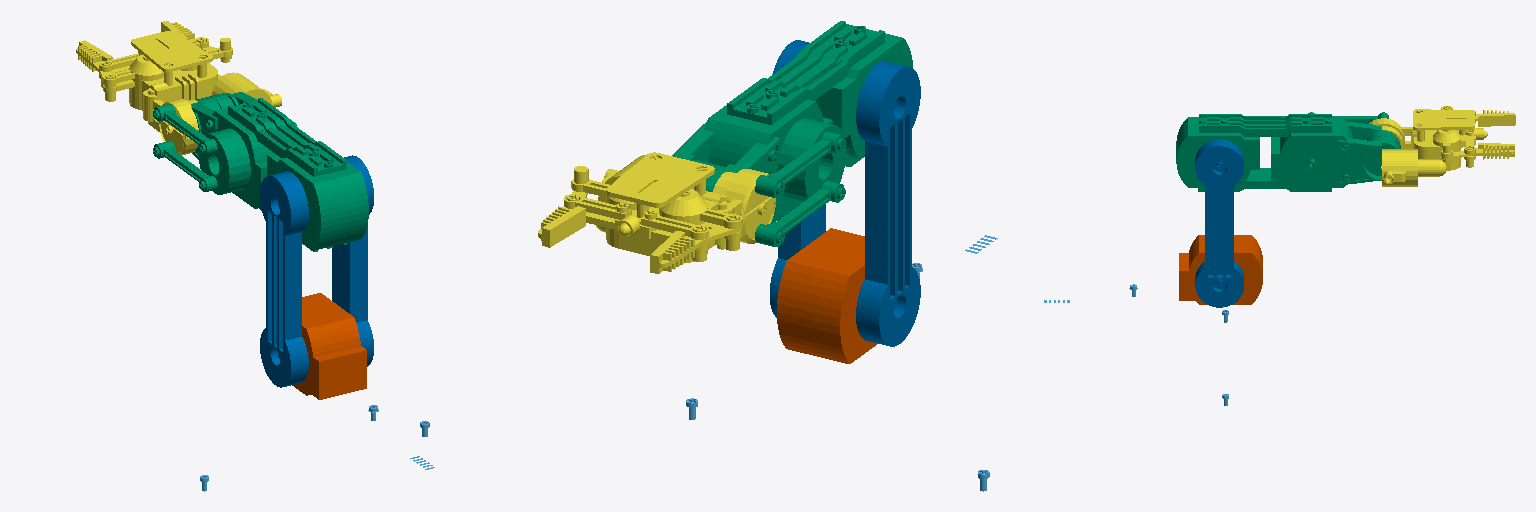
--- Facts derived from the render (not from the file) ---
The picture shows the robot from 3 angles, left to right: view 1: azimuth 30°, elevation 25°; view 2: azimuth 150°, elevation 25°; view 3: azimuth 270°, elevation 25°; orthographic projection.
Model owi535 with 6 links and 5 joints (4 revolute, 1 fixed), rooted at World, posed every joint at zero.
Links seen in each view (by area): view 1: Elbow, Base, Wrist, Rotation; view 2: Elbow, Wrist, Base, Rotation, Model; view 3: Elbow, Wrist, Base, Rotation.
Link boxes in pixels (x1,y1,x2,y2): Elbow: (153,92,368,251); Base: (260,155,373,387); Wrist: (76,21,281,155); Rotation: (292,293,366,399); Elbow: (672,21,912,246); Wrist: (538,152,775,273); Base: (770,40,920,346); Rotation: (777,228,877,363); Model: (686,235,997,491); Elbow: (1176,112,1400,191); Wrist: (1369,106,1515,186); Base: (1195,139,1243,307); Rotation: (1179,235,1262,304).
Bounding box of the posed robot: 0.1429 × 0.3275 × 0.1868 m (x, y, z).
Meshes: 74 distinct files referenced, 72 mesh visuals loaded (72 OBJ); not drawn: 2 (reference not matched to a file when rendering).

robot.urdf — owi535:
<?xml version="1.0" ?>
<robot name="owi535">
   <link name="World"/>
   <link name="Model">
      <visual>
         <origin rpy="0.0 -0.0 0.0" xyz="0.0 0.0 0.0"/>
         <geometry>
            <mesh filename="package://owi_35/urdf/Untitled-mesh.0.obj" scale="0.001 0.001 0.001"/>
         </geometry>
      </visual>
      <collision>
         <origin rpy="0.0 -0.0 0.0" xyz="0.0 0.0 0.0"/>
         <geometry>
            <mesh filename="package://owi_35/urdf/Untitled-mesh.0.obj" scale="0.001 0.001 0.001"/>
         </geometry>
      </collision>
      <visual>
         <origin rpy="0.0 -0.0 0.0" xyz="0.0 0.0 0.0"/>
         <geometry>
            <mesh filename="package://owi_35/urdf/Untitled_001-mesh.0.obj" scale="0.001 0.001 0.001"/>
         </geometry>
      </visual>
      <collision>
         <origin rpy="0.0 -0.0 0.0" xyz="0.0 0.0 0.0"/>
         <geometry>
            <mesh filename="package://owi_35/urdf/Untitled_001-mesh.0.obj" scale="0.001 0.001 0.001"/>
         </geometry>
      </collision>
      <visual>
         <origin rpy="0.0 -0.0 0.0" xyz="0.0 0.0 0.0"/>
         <geometry>
            <mesh filename="package://owi_35/urdf/Untitled_001-mesh.1.obj" scale="0.001 0.001 0.001"/>
         </geometry>
      </visual>
      <collision>
         <origin rpy="0.0 -0.0 0.0" xyz="0.0 0.0 0.0"/>
         <geometry>
            <mesh filename="package://owi_35/urdf/Untitled_001-mesh.1.obj" scale="0.001 0.001 0.001"/>
         </geometry>
      </collision>
      <visual>
         <origin rpy="0.0 -0.0 0.0" xyz="0.0 0.0 0.0"/>
         <geometry>
            <mesh filename="package://owi_35/urdf/Untitled_001-mesh.2.obj" scale="0.001 0.001 0.001"/>
         </geometry>
      </visual>
      <collision>
         <origin rpy="0.0 -0.0 0.0" xyz="0.0 0.0 0.0"/>
         <geometry>
            <mesh filename="package://owi_35/urdf/Untitled_001-mesh.2.obj" scale="0.001 0.001 0.001"/>
         </geometry>
      </collision>
      <visual>
         <origin rpy="0.0 -0.0 0.0" xyz="0.0 0.0 0.0"/>
         <geometry>
            <mesh filename="package://owi_35/urdf/Untitled_001-mesh.3.obj" scale="0.001 0.001 0.001"/>
         </geometry>
      </visual>
      <collision>
         <origin rpy="0.0 -0.0 0.0" xyz="0.0 0.0 0.0"/>
         <geometry>
            <mesh filename="package://owi_35/urdf/Untitled_001-mesh.3.obj" scale="0.001 0.001 0.001"/>
         </geometry>
      </collision>
      <visual>
         <origin rpy="0.0 -0.0 0.0" xyz="0.0 0.0 0.0"/>
         <geometry>
            <mesh filename="package://owi_35/urdf/Untitled_002-mesh.0.obj" scale="0.001 0.001 0.001"/>
         </geometry>
      </visual>
      <collision>
         <origin rpy="0.0 -0.0 0.0" xyz="0.0 0.0 0.0"/>
         <geometry>
            <mesh filename="package://owi_35/urdf/Untitled_002-mesh.0.obj" scale="0.001 0.001 0.001"/>
         </geometry>
      </collision>
      <visual>
         <origin rpy="0.0 -0.0 0.0" xyz="0.0 0.0 0.0"/>
         <geometry>
            <mesh filename="package://owi_35/urdf/Untitled_003-mesh.0.obj" scale="0.001 0.001 0.001"/>
         </geometry>
      </visual>
      <collision>
         <origin rpy="0.0 -0.0 0.0" xyz="0.0 0.0 0.0"/>
         <geometry>
            <mesh filename="package://owi_35/urdf/Untitled_003-mesh.0.obj" scale="0.001 0.001 0.001"/>
         </geometry>
      </collision>
      <inertial>
            <mass value="5" />
            <origin xyz="0 0 0" rpy="0 0 0" />
            <inertia ixx="1.004" ixy="1.001" ixz="1" iyy="1.006" iyz="1" izz="1.007" />
      </inertial>
   </link>
   <link name="Elbow">
      <visual>
         <origin rpy="-3.97231980642232e-09 -0.0 0.0" xyz="46.62923049926758 -157.33990478515625 23.237260818481445"/>
         <geometry>
            <mesh filename="package://owi_35/urdf/Untitled_004-mesh.0.obj" scale="0.001 0.001 0.001"/>
         </geometry>
      </visual>
      <collision>
         <origin rpy="-3.97231980642232e-09 -0.0 0.0" xyz="46.62923049926758 -157.33990478515625 23.237260818481445"/>
         <geometry>
            <mesh filename="package://owi_35/urdf/Untitled_004-mesh.0.obj" scale="0.001 0.001 0.001"/>
         </geometry>
      </collision>
      <visual>
         <origin rpy="-3.97231980642232e-09 -0.0 0.0" xyz="46.62923049926758 -157.33990478515625 23.237260818481445"/>
         <geometry>
            <mesh filename="package://owi_35/urdf/Untitled_005-mesh.0.obj" scale="0.001 0.001 0.001"/>
         </geometry>
      </visual>
      <collision>
         <origin rpy="-3.97231980642232e-09 -0.0 0.0" xyz="46.62923049926758 -157.33990478515625 23.237260818481445"/>
         <geometry>
            <mesh filename="package://owi_35/urdf/Untitled_005-mesh.0.obj" scale="0.001 0.001 0.001"/>
         </geometry>
      </collision>
      <visual>
         <origin rpy="-3.97231980642232e-09 -0.0 0.0" xyz="46.62923049926758 -157.33990478515625 23.237260818481445"/>
         <geometry>
            <mesh filename="package://owi_35/urdf/Untitled_006-mesh.0.obj" scale="0.001 0.001 0.001"/>
         </geometry>
      </visual>
      <collision>
         <origin rpy="-3.97231980642232e-09 -0.0 0.0" xyz="46.62923049926758 -157.33990478515625 23.237260818481445"/>
         <geometry>
            <mesh filename="package://owi_35/urdf/Untitled_006-mesh.0.obj" scale="0.001 0.001 0.001"/>
         </geometry>
      </collision>
      <visual>
         <origin rpy="-3.97231980642232e-09 -0.0 0.0" xyz="46.62923049926758 -157.33990478515625 23.237260818481445"/>
         <geometry>
            <mesh filename="package://owi_35/urdf/Untitled_007-mesh.0.obj" scale="0.001 0.001 0.001"/>
         </geometry>
      </visual>
      <collision>
         <origin rpy="-3.97231980642232e-09 -0.0 0.0" xyz="46.62923049926758 -157.33990478515625 23.237260818481445"/>
         <geometry>
            <mesh filename="package://owi_35/urdf/Untitled_007-mesh.0.obj" scale="0.001 0.001 0.001"/>
         </geometry>
      </collision>
      <visual>
         <origin rpy="-3.97231980642232e-09 -0.0 0.0" xyz="46.62923049926758 -157.33990478515625 23.237260818481445"/>
         <geometry>
            <mesh filename="package://owi_35/urdf/Untitled_008-mesh.0.obj" scale="0.001 0.001 0.001"/>
         </geometry>
      </visual>
      <collision>
         <origin rpy="-3.97231980642232e-09 -0.0 0.0" xyz="46.62923049926758 -157.33990478515625 23.237260818481445"/>
         <geometry>
            <mesh filename="package://owi_35/urdf/Untitled_008-mesh.0.obj" scale="0.001 0.001 0.001"/>
         </geometry>
      </collision>
      <visual>
         <origin rpy="-3.97231980642232e-09 -0.0 0.0" xyz="46.62923049926758 -157.33990478515625 23.237260818481445"/>
         <geometry>
            <mesh filename="package://owi_35/urdf/Untitled_009-mesh.0.obj" scale="0.001 0.001 0.001"/>
         </geometry>
      </visual>
      <collision>
         <origin rpy="-3.97231980642232e-09 -0.0 0.0" xyz="46.62923049926758 -157.33990478515625 23.237260818481445"/>
         <geometry>
            <mesh filename="package://owi_35/urdf/Untitled_009-mesh.0.obj" scale="0.001 0.001 0.001"/>
         </geometry>
      </collision>
      <visual>
         <origin rpy="-3.97231980642232e-09 -0.0 0.0" xyz="46.62923049926758 -157.33990478515625 23.237260818481445"/>
         <geometry>
            <mesh filename="package://owi_35/urdf/Untitled_010-mesh.0.obj" scale="0.001 0.001 0.001"/>
         </geometry>
      </visual>
      <collision>
         <origin rpy="-3.97231980642232e-09 -0.0 0.0" xyz="46.62923049926758 -157.33990478515625 23.237260818481445"/>
         <geometry>
            <mesh filename="package://owi_35/urdf/Untitled_010-mesh.0.obj" scale="0.001 0.001 0.001"/>
         </geometry>
      </collision>
      <visual>
         <origin rpy="-3.97231980642232e-09 -0.0 0.0" xyz="46.62923049926758 -157.33990478515625 23.237260818481445"/>
         <geometry>
            <mesh filename="package://owi_35/urdf/Untitled_011-mesh.0.obj" scale="0.001 0.001 0.001"/>
         </geometry>
      </visual>
      <collision>
         <origin rpy="-3.97231980642232e-09 -0.0 0.0" xyz="46.62923049926758 -157.33990478515625 23.237260818481445"/>
         <geometry>
            <mesh filename="package://owi_35/urdf/Untitled_011-mesh.0.obj" scale="0.001 0.001 0.001"/>
         </geometry>
      </collision>
      <visual>
         <origin rpy="-7.94463961284464e-09 -0.0 0.0" xyz="46.62922668457031 -157.33990478515625 23.237262725830078"/>
         <geometry>
            <mesh filename="package://owi_35/urdf/Untitled_040-mesh.0.obj" scale="0.001 0.001 0.001"/>
         </geometry>
      </visual>
      <collision>
         <origin rpy="-7.94463961284464e-09 -0.0 0.0" xyz="46.62922668457031 -157.33990478515625 23.237262725830078"/>
         <geometry>
            <mesh filename="package://owi_35/urdf/Untitled_040-mesh.0.obj" scale="0.001 0.001 0.001"/>
         </geometry>
      </collision>
      <visual>
         <origin rpy="-7.94463961284464e-09 -0.0 0.0" xyz="46.62922668457031 -157.33990478515625 23.237262725830078"/>
         <geometry>
            <mesh filename="package://owi_35/urdf/Untitled_041-mesh.0.obj" scale="0.001 0.001 0.001"/>
         </geometry>
      </visual>
      <collision>
         <origin rpy="-7.94463961284464e-09 -0.0 0.0" xyz="46.62922668457031 -157.33990478515625 23.237262725830078"/>
         <geometry>
            <mesh filename="package://owi_35/urdf/Untitled_041-mesh.0.obj" scale="0.001 0.001 0.001"/>
         </geometry>
      </collision>
      <visual>
         <origin rpy="-7.94463961284464e-09 -0.0 0.0" xyz="46.62922668457031 -157.33990478515625 23.237262725830078"/>
         <geometry>
            <mesh filename="package://owi_35/urdf/Untitled_042-mesh.0.obj" scale="0.001 0.001 0.001"/>
         </geometry>
      </visual>
      <collision>
         <origin rpy="-7.94463961284464e-09 -0.0 0.0" xyz="46.62922668457031 -157.33990478515625 23.237262725830078"/>
         <geometry>
            <mesh filename="package://owi_35/urdf/Untitled_042-mesh.0.obj" scale="0.001 0.001 0.001"/>
         </geometry>
      </collision>
      <visual>
         <origin rpy="-7.94463961284464e-09 -0.0 0.0" xyz="46.62922668457031 -157.33990478515625 23.237262725830078"/>
         <geometry>
            <mesh filename="package://owi_35/urdf/Untitled_043-mesh.0.obj" scale="0.001 0.001 0.001"/>
         </geometry>
      </visual>
      <collision>
         <origin rpy="-7.94463961284464e-09 -0.0 0.0" xyz="46.62922668457031 -157.33990478515625 23.237262725830078"/>
         <geometry>
            <mesh filename="package://owi_35/urdf/Untitled_043-mesh.0.obj" scale="0.001 0.001 0.001"/>
         </geometry>
      </collision>
      <visual>
         <origin rpy="-7.94463961284464e-09 -0.0 0.0" xyz="46.62922668457031 -157.33990478515625 23.237262725830078"/>
         <geometry>
            <mesh filename="package://owi_35/urdf/Untitled_044-mesh.0.obj" scale="0.001 0.001 0.001"/>
         </geometry>
      </visual>
      <collision>
         <origin rpy="-7.94463961284464e-09 -0.0 0.0" xyz="46.62922668457031 -157.33990478515625 23.237262725830078"/>
         <geometry>
            <mesh filename="package://owi_35/urdf/Untitled_044-mesh.0.obj" scale="0.001 0.001 0.001"/>
         </geometry>
      </collision>
      <visual>
         <origin rpy="-7.94463961284464e-09 -0.0 0.0" xyz="46.62922668457031 -157.33990478515625 23.237262725830078"/>
         <geometry>
            <mesh filename="package://owi_35/urdf/Untitled_045-mesh.0.obj" scale="0.001 0.001 0.001"/>
         </geometry>
      </visual>
      <collision>
         <origin rpy="-7.94463961284464e-09 -0.0 0.0" xyz="46.62922668457031 -157.33990478515625 23.237262725830078"/>
         <geometry>
            <mesh filename="package://owi_35/urdf/Untitled_045-mesh.0.obj" scale="0.001 0.001 0.001"/>
         </geometry>
      </collision>
      <visual>
         <origin rpy="-7.94463961284464e-09 -0.0 0.0" xyz="46.62922668457031 -157.33990478515625 23.237262725830078"/>
         <geometry>
            <mesh filename="package://owi_35/urdf/Untitled_046-mesh.0.obj" scale="0.001 0.001 0.001"/>
         </geometry>
      </visual>
      <collision>
         <origin rpy="-7.94463961284464e-09 -0.0 0.0" xyz="46.62922668457031 -157.33990478515625 23.237262725830078"/>
         <geometry>
            <mesh filename="package://owi_35/urdf/Untitled_046-mesh.0.obj" scale="0.001 0.001 0.001"/>
         </geometry>
      </collision>
      <visual>
         <origin rpy="-7.94463961284464e-09 -0.0 0.0" xyz="46.62922668457031 -157.33990478515625 23.237262725830078"/>
         <geometry>
            <mesh filename="package://owi_35/urdf/Untitled_047-mesh.0.obj" scale="0.001 0.001 0.001"/>
         </geometry>
      </visual>
      <collision>
         <origin rpy="-7.94463961284464e-09 -0.0 0.0" xyz="46.62922668457031 -157.33990478515625 23.237262725830078"/>
         <geometry>
            <mesh filename="package://owi_35/urdf/Untitled_047-mesh.0.obj" scale="0.001 0.001 0.001"/>
         </geometry>
      </collision>
      <visual>
         <origin rpy="-7.94463961284464e-09 -0.0 0.0" xyz="46.62922668457031 -157.33990478515625 23.237262725830078"/>
         <geometry>
            <mesh filename="package://owi_35/urdf/Untitled_048-mesh.0.obj" scale="0.001 0.001 0.001"/>
         </geometry>
      </visual>
      <collision>
         <origin rpy="-7.94463961284464e-09 -0.0 0.0" xyz="46.62922668457031 -157.33990478515625 23.237262725830078"/>
         <geometry>
            <mesh filename="package://owi_35/urdf/Untitled_048-mesh.0.obj" scale="0.001 0.001 0.001"/>
         </geometry>
      </collision>
      <visual>
         <origin rpy="-7.94463961284464e-09 -0.0 0.0" xyz="46.62922668457031 -157.33990478515625 23.237262725830078"/>
         <geometry>
            <mesh filename="package://owi_35/urdf/Untitled_049-mesh.0.obj" scale="0.001 0.001 0.001"/>
         </geometry>
      </visual>
      <collision>
         <origin rpy="-7.94463961284464e-09 -0.0 0.0" xyz="46.62922668457031 -157.33990478515625 23.237262725830078"/>
         <geometry>
            <mesh filename="package://owi_35/urdf/Untitled_049-mesh.0.obj" scale="0.001 0.001 0.001"/>
         </geometry>
      </collision>
      <visual>
         <origin rpy="-7.94463961284464e-09 -0.0 0.0" xyz="46.62922668457031 -157.33990478515625 23.237262725830078"/>
         <geometry>
            <mesh filename="package://owi_35/urdf/Untitled_050-mesh.0.obj" scale="0.001 0.001 0.001"/>
         </geometry>
      </visual>
      <collision>
         <origin rpy="-7.94463961284464e-09 -0.0 0.0" xyz="46.62922668457031 -157.33990478515625 23.237262725830078"/>
         <geometry>
            <mesh filename="package://owi_35/urdf/Untitled_050-mesh.0.obj" scale="0.001 0.001 0.001"/>
         </geometry>
      </collision>
      <visual>
         <origin rpy="-7.94463961284464e-09 -0.0 0.0" xyz="46.62922668457031 -157.33990478515625 23.237262725830078"/>
         <geometry>
            <mesh filename="package://owi_35/urdf/Untitled_051-mesh.0.obj" scale="0.001 0.001 0.001"/>
         </geometry>
      </visual>
      <collision>
         <origin rpy="-7.94463961284464e-09 -0.0 0.0" xyz="46.62922668457031 -157.33990478515625 23.237262725830078"/>
         <geometry>
            <mesh filename="package://owi_35/urdf/Untitled_051-mesh.0.obj" scale="0.001 0.001 0.001"/>
         </geometry>
      </collision>
      <visual>
         <origin rpy="-7.94463961284464e-09 -0.0 0.0" xyz="46.62922668457031 -157.33990478515625 23.237262725830078"/>
         <geometry>
            <mesh filename="package://owi_35/urdf/Untitled_052-mesh.0.obj" scale="0.001 0.001 0.001"/>
         </geometry>
      </visual>
      <collision>
         <origin rpy="-7.94463961284464e-09 -0.0 0.0" xyz="46.62922668457031 -157.33990478515625 23.237262725830078"/>
         <geometry>
            <mesh filename="package://owi_35/urdf/Untitled_052-mesh.0.obj" scale="0.001 0.001 0.001"/>
         </geometry>
      </collision>
      <visual>
         <origin rpy="-7.94463961284464e-09 -0.0 0.0" xyz="46.62922668457031 -157.33990478515625 23.237262725830078"/>
         <geometry>
            <mesh filename="package://owi_35/urdf/Untitled_053-mesh.0.obj" scale="0.001 0.001 0.001"/>
         </geometry>
      </visual>
      <collision>
         <origin rpy="-7.94463961284464e-09 -0.0 0.0" xyz="46.62922668457031 -157.33990478515625 23.237262725830078"/>
         <geometry>
            <mesh filename="package://owi_35/urdf/Untitled_053-mesh.0.obj" scale="0.001 0.001 0.001"/>
         </geometry>
      </collision>
      <visual>
         <origin rpy="-7.94463961284464e-09 -0.0 0.0" xyz="46.62922668457031 -157.33990478515625 23.237262725830078"/>
         <geometry>
            <mesh filename="package://owi_35/urdf/Untitled_054-mesh.0.obj" scale="0.001 0.001 0.001"/>
         </geometry>
      </visual>
      <collision>
         <origin rpy="-7.94463961284464e-09 -0.0 0.0" xyz="46.62922668457031 -157.33990478515625 23.237262725830078"/>
         <geometry>
            <mesh filename="package://owi_35/urdf/Untitled_054-mesh.0.obj" scale="0.001 0.001 0.001"/>
         </geometry>
      </collision>
      <visual>
         <origin rpy="-7.94463961284464e-09 -0.0 0.0" xyz="46.62922668457031 -157.33990478515625 23.237262725830078"/>
         <geometry>
            <mesh filename="package://owi_35/urdf/Untitled_055-mesh.0.obj" scale="0.001 0.001 0.001"/>
         </geometry>
      </visual>
      <collision>
         <origin rpy="-7.94463961284464e-09 -0.0 0.0" xyz="46.62922668457031 -157.33990478515625 23.237262725830078"/>
         <geometry>
            <mesh filename="package://owi_35/urdf/Untitled_055-mesh.0.obj" scale="0.001 0.001 0.001"/>
         </geometry>
      </collision>
      <visual>
         <origin rpy="-7.94463961284464e-09 -0.0 0.0" xyz="46.62922668457031 -157.33990478515625 23.237262725830078"/>
         <geometry>
            <mesh filename="package://owi_35/urdf/Untitled_056-mesh.0.obj" scale="0.001 0.001 0.001"/>
         </geometry>
      </visual>
      <collision>
         <origin rpy="-7.94463961284464e-09 -0.0 0.0" xyz="46.62922668457031 -157.33990478515625 23.237262725830078"/>
         <geometry>
            <mesh filename="package://owi_35/urdf/Untitled_056-mesh.0.obj" scale="0.001 0.001 0.001"/>
         </geometry>
      </collision>
      <visual>
         <origin rpy="-7.94463961284464e-09 -0.0 0.0" xyz="46.62922668457031 -157.33990478515625 23.237262725830078"/>
         <geometry>
            <mesh filename="package://owi_35/urdf/Untitled_057-mesh.0.obj" scale="0.001 0.001 0.001"/>
         </geometry>
      </visual>
      <collision>
         <origin rpy="-7.94463961284464e-09 -0.0 0.0" xyz="46.62922668457031 -157.33990478515625 23.237262725830078"/>
         <geometry>
            <mesh filename="package://owi_35/urdf/Untitled_057-mesh.0.obj" scale="0.001 0.001 0.001"/>
         </geometry>
      </collision>
      <inertial>
            <mass value="5" />
            <origin xyz="0 0 0" rpy="0 0 0" />
            <inertia ixx="0" ixy="0" ixz="0" iyy="0" iyz="0" izz="0" />
      </inertial>
   </link>
   <link name="Wrist">
      <visual>
         <origin rpy="4.371139894487894e-08 -0.0 0.0" xyz="45.20729064941406 -156.94960021972656 136.8153076171875"/>
         <geometry>
            <mesh filename="package://owi_35/urdf/Untitled_012-mesh.0.obj" scale="0.001 0.001 0.001"/>
         </geometry>
      </visual>
      <collision>
         <origin rpy="4.371139894487894e-08 -0.0 0.0" xyz="45.20729064941406 -156.94960021972656 136.8153076171875"/>
         <geometry>
            <mesh filename="package://owi_35/urdf/Untitled_012-mesh.0.obj" scale="0.001 0.001 0.001"/>
         </geometry>
      </collision>
      <visual>
         <origin rpy="4.371139894487894e-08 -0.0 0.0" xyz="45.20729064941406 -156.94960021972656 136.8153076171875"/>
         <geometry>
            <mesh filename="package://owi_35/urdf/Untitled_013-mesh.0.obj" scale="0.001 0.001 0.001"/>
         </geometry>
      </visual>
      <collision>
         <origin rpy="4.371139894487894e-08 -0.0 0.0" xyz="45.20729064941406 -156.94960021972656 136.8153076171875"/>
         <geometry>
            <mesh filename="package://owi_35/urdf/Untitled_013-mesh.0.obj" scale="0.001 0.001 0.001"/>
         </geometry>
      </collision>
      <visual>
         <origin rpy="4.371139894487894e-08 -0.0 0.0" xyz="45.20729064941406 -156.94960021972656 136.8153076171875"/>
         <geometry>
            <mesh filename="package://owi_35/urdf/Untitled_014-mesh.0.obj" scale="0.001 0.001 0.001"/>
         </geometry>
      </visual>
      <collision>
         <origin rpy="4.371139894487894e-08 -0.0 0.0" xyz="45.20729064941406 -156.94960021972656 136.8153076171875"/>
         <geometry>
            <mesh filename="package://owi_35/urdf/Untitled_014-mesh.0.obj" scale="0.001 0.001 0.001"/>
         </geometry>
      </collision>
      <visual>
         <origin rpy="4.371139894487894e-08 -0.0 0.0" xyz="45.20729064941406 -156.94960021972656 136.8153076171875"/>
         <geometry>
            <mesh filename="package://owi_35/urdf/Untitled_015-mesh.0.obj" scale="0.001 0.001 0.001"/>
         </geometry>
      </visual>
      <collision>
         <origin rpy="4.371139894487894e-08 -0.0 0.0" xyz="45.20729064941406 -156.94960021972656 136.8153076171875"/>
         <geometry>
            <mesh filename="package://owi_35/urdf/Untitled_015-mesh.0.obj" scale="0.001 0.001 0.001"/>
         </geometry>
      </collision>
      <visual>
         <origin rpy="4.371139894487894e-08 -0.0 0.0" xyz="45.20729064941406 -156.94960021972656 136.8153076171875"/>
         <geometry>
            <mesh filename="package://owi_35/urdf/Untitled_016-mesh.0.obj" scale="0.001 0.001 0.001"/>
         </geometry>
      </visual>
      <collision>
         <origin rpy="4.371139894487894e-08 -0.0 0.0" xyz="45.20729064941406 -156.94960021972656 136.8153076171875"/>
         <geometry>
            <mesh filename="package://owi_35/urdf/Untitled_016-mesh.0.obj" scale="0.001 0.001 0.001"/>
         </geometry>
      </collision>
      <visual>
         <origin rpy="4.371139894487894e-08 -0.0 0.0" xyz="45.20729064941406 -156.94960021972656 136.8153076171875"/>
         <geometry>
            <mesh filename="package://owi_35/urdf/Untitled_017-mesh.0.obj" scale="0.001 0.001 0.001"/>
         </geometry>
      </visual>
      <collision>
         <origin rpy="4.371139894487894e-08 -0.0 0.0" xyz="45.20729064941406 -156.94960021972656 136.8153076171875"/>
         <geometry>
            <mesh filename="package://owi_35/urdf/Untitled_017-mesh.0.obj" scale="0.001 0.001 0.001"/>
         </geometry>
      </collision>
      <visual>
         <origin rpy="4.371139894487894e-08 -0.0 0.0" xyz="45.20729064941406 -156.94960021972656 136.8153076171875"/>
         <geometry>
            <mesh filename="package://owi_35/urdf/Untitled_018-mesh.0.obj" scale="0.001 0.001 0.001"/>
         </geometry>
      </visual>
      <collision>
         <origin rpy="4.371139894487894e-08 -0.0 0.0" xyz="45.20729064941406 -156.94960021972656 136.8153076171875"/>
         <geometry>
            <mesh filename="package://owi_35/urdf/Untitled_018-mesh.0.obj" scale="0.001 0.001 0.001"/>
         </geometry>
      </collision>
      <visual>
         <origin rpy="4.371139894487894e-08 -0.0 0.0" xyz="45.20729064941406 -156.94960021972656 136.8153076171875"/>
         <geometry>
            <mesh filename="package://owi_35/urdf/Untitled_019-mesh.0.obj" scale="0.001 0.001 0.001"/>
         </geometry>
      </visual>
      <collision>
         <origin rpy="4.371139894487894e-08 -0.0 0.0" xyz="45.20729064941406 -156.94960021972656 136.8153076171875"/>
         <geometry>
            <mesh filename="package://owi_35/urdf/Untitled_019-mesh.0.obj" scale="0.001 0.001 0.001"/>
         </geometry>
      </collision>
      <visual>
         <origin rpy="4.371139894487894e-08 -0.0 0.0" xyz="45.20729064941406 -156.94960021972656 136.8153076171875"/>
         <geometry>
            <mesh filename="package://owi_35/urdf/Untitled_019-mesh.1.obj" scale="0.001 0.001 0.001"/>
         </geometry>
      </visual>
      <collision>
         <origin rpy="4.371139894487894e-08 -0.0 0.0" xyz="45.20729064941406 -156.94960021972656 136.8153076171875"/>
         <geometry>
            <mesh filename="package://owi_35/urdf/Untitled_019-mesh.1.obj" scale="0.001 0.001 0.001"/>
         </geometry>
      </collision>
      <visual>
         <origin rpy="4.371139894487894e-08 -0.0 0.0" xyz="45.20729064941406 -156.94960021972656 136.8153076171875"/>
         <geometry>
            <mesh filename="package://owi_35/urdf/Untitled_019-mesh.2.obj" scale="0.001 0.001 0.001"/>
         </geometry>
      </visual>
      <collision>
         <origin rpy="4.371139894487894e-08 -0.0 0.0" xyz="45.20729064941406 -156.94960021972656 136.8153076171875"/>
         <geometry>
            <mesh filename="package://owi_35/urdf/Untitled_019-mesh.2.obj" scale="0.001 0.001 0.001"/>
         </geometry>
      </collision>
      <visual>
         <origin rpy="4.371139894487894e-08 -0.0 0.0" xyz="45.20729064941406 -156.94960021972656 136.8153076171875"/>
         <geometry>
            <mesh filename="package://owi_35/urdf/Untitled_020-mesh.0.obj" scale="0.001 0.001 0.001"/>
         </geometry>
      </visual>
      <collision>
         <origin rpy="4.371139894487894e-08 -0.0 0.0" xyz="45.20729064941406 -156.94960021972656 136.8153076171875"/>
         <geometry>
            <mesh filename="package://owi_35/urdf/Untitled_020-mesh.0.obj" scale="0.001 0.001 0.001"/>
         </geometry>
      </collision>
      <visual>
         <origin rpy="4.371139894487894e-08 -0.0 0.0" xyz="45.20729064941406 -156.94960021972656 136.8153076171875"/>
         <geometry>
            <mesh filename="package://owi_35/urdf/Untitled_021-mesh.0.obj" scale="0.001 0.001 0.001"/>
         </geometry>
      </visual>
      <collision>
         <origin rpy="4.371139894487894e-08 -0.0 0.0" xyz="45.20729064941406 -156.94960021972656 136.8153076171875"/>
         <geometry>
            <mesh filename="package://owi_35/urdf/Untitled_021-mesh.0.obj" scale="0.001 0.001 0.001"/>
         </geometry>
      </collision>
      <visual>
         <origin rpy="4.371139894487894e-08 -0.0 0.0" xyz="45.20729064941406 -156.94960021972656 136.8153076171875"/>
         <geometry>
            <mesh filename="package://owi_35/urdf/Untitled_022-mesh.0.obj" scale="0.001 0.001 0.001"/>
         </geometry>
      </visual>
      <collision>
         <origin rpy="4.371139894487894e-08 -0.0 0.0" xyz="45.20729064941406 -156.94960021972656 136.8153076171875"/>
         <geometry>
            <mesh filename="package://owi_35/urdf/Untitled_022-mesh.0.obj" scale="0.001 0.001 0.001"/>
         </geometry>
      </collision>
      <visual>
         <origin rpy="4.371139894487894e-08 -0.0 0.0" xyz="45.20729064941406 -156.94960021972656 136.8153076171875"/>
         <geometry>
            <mesh filename="package://owi_35/urdf/Untitled_022-mesh.1.obj" scale="0.001 0.001 0.001"/>
         </geometry>
      </visual>
      <collision>
         <origin rpy="4.371139894487894e-08 -0.0 0.0" xyz="45.20729064941406 -156.94960021972656 136.8153076171875"/>
         <geometry>
            <mesh filename="package://owi_35/urdf/Untitled_022-mesh.1.obj" scale="0.001 0.001 0.001"/>
         </geometry>
      </collision>
      <visual>
         <origin rpy="4.371139894487894e-08 -0.0 0.0" xyz="45.20729064941406 -156.94960021972656 136.8153076171875"/>
         <geometry>
            <mesh filename="package://owi_35/urdf/Untitled_022-mesh.2.obj" scale="0.001 0.001 0.001"/>
         </geometry>
      </visual>
      <collision>
         <origin rpy="4.371139894487894e-08 -0.0 0.0" xyz="45.20729064941406 -156.94960021972656 136.8153076171875"/>
         <geometry>
            <mesh filename="package://owi_35/urdf/Untitled_022-mesh.2.obj" scale="0.001 0.001 0.001"/>
         </geometry>
      </collision>
      <visual>
         <origin rpy="4.371139894487894e-08 -0.0 0.0" xyz="45.20729064941406 -156.94960021972656 136.8153076171875"/>
         <geometry>
            <mesh filename="package://owi_35/urdf/Untitled_023-mesh.0.obj" scale="0.001 0.001 0.001"/>
         </geometry>
      </visual>
      <collision>
         <origin rpy="4.371139894487894e-08 -0.0 0.0" xyz="45.20729064941406 -156.94960021972656 136.8153076171875"/>
         <geometry>
            <mesh filename="package://owi_35/urdf/Untitled_023-mesh.0.obj" scale="0.001 0.001 0.001"/>
         </geometry>
      </collision>
      <visual>
         <origin rpy="4.371139894487894e-08 -0.0 0.0" xyz="45.20729064941406 -156.94960021972656 136.8153076171875"/>
         <geometry>
            <mesh filename="package://owi_35/urdf/Untitled_024-mesh.0.obj" scale="0.001 0.001 0.001"/>
         </geometry>
      </visual>
      <collision>
         <origin rpy="4.371139894487894e-08 -0.0 0.0" xyz="45.20729064941406 -156.94960021972656 136.8153076171875"/>
         <geometry>
            <mesh filename="package://owi_35/urdf/Untitled_024-mesh.0.obj" scale="0.001 0.001 0.001"/>
         </geometry>
      </collision>
      <visual>
         <origin rpy="4.371139894487894e-08 -0.0 0.0" xyz="45.20729064941406 -156.94960021972656 136.8153076171875"/>
         <geometry>
            <mesh filename="package://owi_35/urdf/Untitled_025-mesh.0.obj" scale="0.001 0.001 0.001"/>
         </geometry>
      </visual>
      <collision>
         <origin rpy="4.371139894487894e-08 -0.0 0.0" xyz="45.20729064941406 -156.94960021972656 136.8153076171875"/>
         <geometry>
            <mesh filename="package://owi_35/urdf/Untitled_025-mesh.0.obj" scale="0.001 0.001 0.001"/>
         </geometry>
      </collision>
      <visual>
         <origin rpy="4.371139894487894e-08 -0.0 0.0" xyz="45.20729064941406 -156.94960021972656 136.8153076171875"/>
         <geometry>
            <mesh filename="package://owi_35/urdf/Untitled_026-mesh.0.obj" scale="0.001 0.001 0.001"/>
         </geometry>
      </visual>
      <collision>
         <origin rpy="4.371139894487894e-08 -0.0 0.0" xyz="45.20729064941406 -156.94960021972656 136.8153076171875"/>
         <geometry>
            <mesh filename="package://owi_35/urdf/Untitled_026-mesh.0.obj" scale="0.001 0.001 0.001"/>
         </geometry>
      </collision>
      <visual>
         <origin rpy="4.371139894487894e-08 -0.0 0.0" xyz="45.20729064941406 -156.94960021972656 136.8153076171875"/>
         <geometry>
            <mesh filename="package://owi_35/urdf/Untitled_026-mesh.1.obj" scale="0.001 0.001 0.001"/>
         </geometry>
      </visual>
      <collision>
         <origin rpy="4.371139894487894e-08 -0.0 0.0" xyz="45.20729064941406 -156.94960021972656 136.8153076171875"/>
         <geometry>
            <mesh filename="package://owi_35/urdf/Untitled_026-mesh.1.obj" scale="0.001 0.001 0.001"/>
         </geometry>
      </collision>
      <visual>
         <origin rpy="4.371139894487894e-08 -0.0 0.0" xyz="45.20729064941406 -156.94960021972656 136.8153076171875"/>
         <geometry>
            <mesh filename="package://owi_35/urdf/Untitled_027-mesh.0.obj" scale="0.001 0.001 0.001"/>
         </geometry>
      </visual>
      <collision>
         <origin rpy="4.371139894487894e-08 -0.0 0.0" xyz="45.20729064941406 -156.94960021972656 136.8153076171875"/>
         <geometry>
            <mesh filename="package://owi_35/urdf/Untitled_027-mesh.0.obj" scale="0.001 0.001 0.001"/>
         </geometry>
      </collision>
      <visual>
         <origin rpy="4.371139894487894e-08 -0.0 0.0" xyz="45.20729064941406 -156.94960021972656 136.8153076171875"/>
         <geometry>
            <mesh filename="package://owi_35/urdf/Untitled_028-mesh.0.obj" scale="0.001 0.001 0.001"/>
         </geometry>
      </visual>
      <collision>
         <origin rpy="4.371139894487894e-08 -0.0 0.0" xyz="45.20729064941406 -156.94960021972656 136.8153076171875"/>
         <geometry>
            <mesh filename="package://owi_35/urdf/Untitled_028-mesh.0.obj" scale="0.001 0.001 0.001"/>
         </geometry>
      </collision>
      <visual>
         <origin rpy="4.371139894487894e-08 -0.0 0.0" xyz="45.20729064941406 -156.94960021972656 136.8153076171875"/>
         <geometry>
            <mesh filename="package://owi_35/urdf/Untitled_029-mesh.0.obj" scale="0.001 0.001 0.001"/>
         </geometry>
      </visual>
      <collision>
         <origin rpy="4.371139894487894e-08 -0.0 0.0" xyz="45.20729064941406 -156.94960021972656 136.8153076171875"/>
         <geometry>
            <mesh filename="package://owi_35/urdf/Untitled_029-mesh.0.obj" scale="0.001 0.001 0.001"/>
         </geometry>
      </collision>
      <visual>
         <origin rpy="4.371139894487894e-08 -0.0 0.0" xyz="45.20729064941406 -156.94960021972656 136.8153076171875"/>
         <geometry>
            <mesh filename="package://owi_35/urdf/Untitled_030-mesh.0.obj" scale="0.001 0.001 0.001"/>
         </geometry>
      </visual>
      <collision>
         <origin rpy="4.371139894487894e-08 -0.0 0.0" xyz="45.20729064941406 -156.94960021972656 136.8153076171875"/>
         <geometry>
            <mesh filename="package://owi_35/urdf/Untitled_030-mesh.0.obj" scale="0.001 0.001 0.001"/>
         </geometry>
      </collision>
      <visual>
         <origin rpy="4.371139894487894e-08 -0.0 0.0" xyz="45.20729064941406 -156.94960021972656 136.8153076171875"/>
         <geometry>
            <mesh filename="package://owi_35/urdf/Untitled_031-mesh.0.obj" scale="0.001 0.001 0.001"/>
         </geometry>
      </visual>
      <collision>
         <origin rpy="4.371139894487894e-08 -0.0 0.0" xyz="45.20729064941406 -156.94960021972656 136.8153076171875"/>
         <geometry>
            <mesh filename="package://owi_35/urdf/Untitled_031-mesh.0.obj" scale="0.001 0.001 0.001"/>
         </geometry>
      </collision>
      <visual>
         <origin rpy="4.371139894487894e-08 -0.0 0.0" xyz="45.20729064941406 -156.94960021972656 136.8153076171875"/>
         <geometry>
            <mesh filename="package://owi_35/urdf/Untitled_032-mesh.0.obj" scale="0.001 0.001 0.001"/>
         </geometry>
      </visual>
      <collision>
         <origin rpy="4.371139894487894e-08 -0.0 0.0" xyz="45.20729064941406 -156.94960021972656 136.8153076171875"/>
         <geometry>
            <mesh filename="package://owi_35/urdf/Untitled_032-mesh.0.obj" scale="0.001 0.001 0.001"/>
         </geometry>
      </collision>
      <visual>
         <origin rpy="4.371139894487894e-08 -0.0 0.0" xyz="45.20729064941406 -156.94960021972656 136.8153076171875"/>
         <geometry>
            <mesh filename="package://owi_35/urdf/Untitled_033-mesh.0.obj" scale="0.001 0.001 0.001"/>
         </geometry>
      </visual>
      <collision>
         <origin rpy="4.371139894487894e-08 -0.0 0.0" xyz="45.20729064941406 -156.94960021972656 136.8153076171875"/>
         <geometry>
            <mesh filename="package://owi_35/urdf/Untitled_033-mesh.0.obj" scale="0.001 0.001 0.001"/>
         </geometry>
      </collision>
      <visual>
         <origin rpy="4.371139894487894e-08 -0.0 0.0" xyz="45.20729064941406 -156.94960021972656 136.8153076171875"/>
         <geometry>
            <mesh filename="package://owi_35/urdf/Untitled_034-mesh.0.obj" scale="0.001 0.001 0.001"/>
         </geometry>
      </visual>
      <collision>
         <origin rpy="4.371139894487894e-08 -0.0 0.0" xyz="45.20729064941406 -156.94960021972656 136.8153076171875"/>
         <geometry>
            <mesh filename="package://owi_35/urdf/Untitled_034-mesh.0.obj" scale="0.001 0.001 0.001"/>
         </geometry>
      </collision>
      <visual>
         <origin rpy="4.371139894487894e-08 -0.0 0.0" xyz="45.20729064941406 -156.94960021972656 136.8153076171875"/>
         <geometry>
            <mesh filename="package://owi_35/urdf/Untitled_035-mesh.0.obj" scale="0.001 0.001 0.001"/>
         </geometry>
      </visual>
      <collision>
         <origin rpy="4.371139894487894e-08 -0.0 0.0" xyz="45.20729064941406 -156.94960021972656 136.8153076171875"/>
         <geometry>
            <mesh filename="package://owi_35/urdf/Untitled_035-mesh.0.obj" scale="0.001 0.001 0.001"/>
         </geometry>
      </collision>
      <visual>
         <origin rpy="4.371139894487894e-08 -0.0 0.0" xyz="45.20729064941406 -156.94960021972656 136.8153076171875"/>
         <geometry>
            <mesh filename="package://owi_35/urdf/Untitled_036-mesh.0.obj" scale="0.001 0.001 0.001"/>
         </geometry>
      </visual>
      <collision>
         <origin rpy="4.371139894487894e-08 -0.0 0.0" xyz="45.20729064941406 -156.94960021972656 136.8153076171875"/>
         <geometry>
            <mesh filename="package://owi_35/urdf/Untitled_036-mesh.0.obj" scale="0.001 0.001 0.001"/>
         </geometry>
      </collision>
      <visual>
         <origin rpy="4.371139894487894e-08 -0.0 0.0" xyz="45.20729064941406 -156.94960021972656 136.8153076171875"/>
         <geometry>
            <mesh filename="package://owi_35/urdf/Untitled_037-mesh.0.obj" scale="0.001 0.001 0.001"/>
         </geometry>
      </visual>
      <collision>
         <origin rpy="4.371139894487894e-08 -0.0 0.0" xyz="45.20729064941406 -156.94960021972656 136.8153076171875"/>
         <geometry>
            <mesh filename="package://owi_35/urdf/Untitled_037-mesh.0.obj" scale="0.001 0.001 0.001"/>
         </geometry>
      </collision>
      <visual>
         <origin rpy="4.371139894487894e-08 -0.0 0.0" xyz="45.20729064941406 -156.94960021972656 136.8153076171875"/>
         <geometry>
            <mesh filename="package://owi_35/urdf/Untitled_037-mesh.1.obj" scale="0.001 0.001 0.001"/>
         </geometry>
      </visual>
      <collision>
         <origin rpy="4.371139894487894e-08 -0.0 0.0" xyz="45.20729064941406 -156.94960021972656 136.8153076171875"/>
         <geometry>
            <mesh filename="package://owi_35/urdf/Untitled_037-mesh.1.obj" scale="0.001 0.001 0.001"/>
         </geometry>
      </collision>
      <visual>
         <origin rpy="4.371139894487894e-08 -0.0 0.0" xyz="45.20729064941406 -156.94960021972656 136.8153076171875"/>
         <geometry>
            <mesh filename="package://owi_35/urdf/Untitled_038-mesh.0.obj" scale="0.001 0.001 0.001"/>
         </geometry>
      </visual>
      <collision>
         <origin rpy="4.371139894487894e-08 -0.0 0.0" xyz="45.20729064941406 -156.94960021972656 136.8153076171875"/>
         <geometry>
            <mesh filename="package://owi_35/urdf/Untitled_038-mesh.0.obj" scale="0.001 0.001 0.001"/>
         </geometry>
      </collision>
      <visual>
         <origin rpy="4.371139894487894e-08 -0.0 0.0" xyz="45.20729064941406 -156.94960021972656 136.8153076171875"/>
         <geometry>
            <mesh filename="package://owi_35/urdf/Untitled_039-mesh.0.obj" scale="0.001 0.001 0.001"/>
         </geometry>
      </visual>
      <collision>
         <origin rpy="4.371139894487894e-08 -0.0 0.0" xyz="45.20729064941406 -156.94960021972656 136.8153076171875"/>
         <geometry>
            <mesh filename="package://owi_35/urdf/Untitled_039-mesh.0.obj" scale="0.001 0.001 0.001"/>
         </geometry>
      </collision>
      <inertial>
            <mass value="5" />
            <origin xyz="0 0 0" rpy="0 0 0" />
            <inertia ixx="0" ixy="0" ixz="0" iyy="0" iyz="0" izz="0" />
      </inertial>
   </link>
   <link name="Base">
      <visual>
         <origin rpy="1.1128840071705781e-08 -0.0 0.0" xyz="45.207271575927734 -67.66277313232422 22.967529296875"/>
         <geometry>
            <mesh filename="package://owi_35/urdf/Untitled_058-mesh.0.obj" scale="0.001 0.001 0.001"/>
         </geometry>
      </visual>
      <collision>
         <origin rpy="1.1128840071705781e-08 -0.0 0.0" xyz="45.207271575927734 -67.66277313232422 22.967529296875"/>
         <geometry>
            <mesh filename="package://owi_35/urdf/Untitled_058-mesh.0.obj" scale="0.001 0.001 0.001"/>
         </geometry>
      </collision>
      <visual>
         <origin rpy="1.1128840071705781e-08 -0.0 0.0" xyz="45.207271575927734 -67.66277313232422 22.967529296875"/>
         <geometry>
            <mesh filename="package://owi_35/urdf/Untitled_059-mesh.0.obj" scale="0.001 0.001 0.001"/>
         </geometry>
      </visual>
      <collision>
         <origin rpy="1.1128840071705781e-08 -0.0 0.0" xyz="45.207271575927734 -67.66277313232422 22.967529296875"/>
         <geometry>
            <mesh filename="package://owi_35/urdf/Untitled_059-mesh.0.obj" scale="0.001 0.001 0.001"/>
         </geometry>
      </collision>
      <visual>
         <origin rpy="1.1128840071705781e-08 -0.0 0.0" xyz="45.207271575927734 -67.66277313232422 22.967529296875"/>
         <geometry>
            <mesh filename="package://owi_35/urdf/Untitled_060-mesh.0.obj" scale="0.001 0.001 0.001"/>
         </geometry>
      </visual>
      <collision>
         <origin rpy="1.1128840071705781e-08 -0.0 0.0" xyz="45.207271575927734 -67.66277313232422 22.967529296875"/>
         <geometry>
            <mesh filename="package://owi_35/urdf/Untitled_060-mesh.0.obj" scale="0.001 0.001 0.001"/>
         </geometry>
      </collision>
      <visual>
         <origin rpy="1.1128840071705781e-08 -0.0 0.0" xyz="45.207271575927734 -67.66277313232422 22.967529296875"/>
         <geometry>
            <mesh filename="package://owi_35/urdf/Untitled_061-mesh.0.obj" scale="0.001 0.001 0.001"/>
         </geometry>
      </visual>
      <collision>
         <origin rpy="1.1128840071705781e-08 -0.0 0.0" xyz="45.207271575927734 -67.66277313232422 22.967529296875"/>
         <geometry>
            <mesh filename="package://owi_35/urdf/Untitled_061-mesh.0.obj" scale="0.001 0.001 0.001"/>
         </geometry>
      </collision>
      <visual>
         <origin rpy="1.1128840071705781e-08 -0.0 0.0" xyz="45.207271575927734 -67.66277313232422 22.967529296875"/>
         <geometry>
            <mesh filename="package://owi_35/urdf/Untitled_062-mesh.0.obj" scale="0.001 0.001 0.001"/>
         </geometry>
      </visual>
      <collision>
         <origin rpy="1.1128840071705781e-08 -0.0 0.0" xyz="45.207271575927734 -67.66277313232422 22.967529296875"/>
         <geometry>
            <mesh filename="package://owi_35/urdf/Untitled_062-mesh.0.obj" scale="0.001 0.001 0.001"/>
         </geometry>
      </collision>
      <visual>
         <origin rpy="1.1128840071705781e-08 -0.0 0.0" xyz="45.207271575927734 -67.66277313232422 22.967529296875"/>
         <geometry>
            <mesh filename="package://owi_35/urdf/Untitled_063-mesh.0.obj" scale="0.001 0.001 0.001"/>
         </geometry>
      </visual>
      <collision>
         <origin rpy="1.1128840071705781e-08 -0.0 0.0" xyz="45.207271575927734 -67.66277313232422 22.967529296875"/>
         <geometry>
            <mesh filename="package://owi_35/urdf/Untitled_063-mesh.0.obj" scale="0.001 0.001 0.001"/>
         </geometry>
      </collision>
      <inertial>
            <mass value="5" />
            <origin xyz="0 0 0" rpy="0 0 0" />
            <inertia ixx="0" ixy="0" ixz="0" iyy="0" iyz="0" izz="0" />
      </inertial>
   </link>
   <link name="Rotation">
      <visual>
         <origin rpy="1.112884007170578e-08 -1.2086680101219856e-07 -3.1868600558481205e-07" xyz="45.94236755371094 -66.8334732055664 25.347610473632812"/>
         <geometry>
            <mesh filename="package://owi_35/urdf/Untitled_064-mesh.0.obj" scale="0.001 0.001 0.001"/>
         </geometry>
      </visual>
      <collision>
         <origin rpy="1.112884007170578e-08 -1.2086680101219856e-07 -3.1868600558481205e-07" xyz="45.94236755371094 -66.8334732055664 25.347610473632812"/>
         <geometry>
            <mesh filename="package://owi_35/urdf/Untitled_064-mesh.0.obj" scale="0.001 0.001 0.001"/>
         </geometry>
      </collision>
      <inertial>
            <mass value="5" />
            <origin xyz="0 0 0" rpy="0 0 0" />
            <inertia ixx="0" ixy="0" ixz="0" iyy="0" iyz="0" izz="0" />
      </inertial>
   </link>
   <joint name="World_Model" type="fixed">
      <parent link="World"/>
      <child link="Model"/>
      <origin rpy="1.5707963705062988 -0.0 0.0" xyz="0.0 0.0 0.0"/>
   </joint>
   <joint name="Model_Rotation" type="revolute">
      <parent link="Model"/>
      <child link="Rotation"/>
      <origin rpy="0.0 -0.0 0.0" xyz="-45.9423713684082 66.8334732055664 -25.347610473632812"/>
      <axis xyz="0 1 0"/>
      <limit effort="30" velocity="1.0" lower="-2.268928" upper="2.268928"/>
   </joint>
   <joint name="Rotation_Base" type="revolute">
      <parent link="Rotation"/>
      <child link="Base"/>
      <origin rpy="5.5644200358528906e-09 -6.043340050609917e-08 -1.5934300279241008e-07" xyz="0.7350807189941406 0.8293303847312927 2.3800790309906006"/>
      <axis xyz="1 0 0"/>
      <limit effort="30" velocity="1.0" lower="-1.570796" upper="1.047198"/>
   </joint>
   <joint name="Base_Elbow" type="revolute">
      <parent link="Base"/>
      <child link="Elbow"/>
      <origin rpy="5.5644200358528906e-09 -0.0 0.0" xyz="-1.42194402217865 89.6771011352539 -0.2697296142578125"/>
      <axis xyz="1 0 0"/>
      <limit effort="30" velocity="1.0" lower="-1.047198" upper="1.570796"/>
   </joint>
   <joint name="Elbow_Wrist" type="revolute">
      <parent link="Elbow"/>
      <child link="Wrist"/>
      <origin rpy="-3.97231980642232e-09 -0.0 0.0" xyz="1.4219470024108887 -0.3902587890625 -113.5781021118164"/>
      <axis xyz="1 0 0"/>
      <limit effort="30" velocity="1.0" lower="-0.785398" upper="0.785398"/>
   </joint>
   <transmission name="tran1">
      <type>transmission_interface/SimpleTransmission</type>
      <joint name="Model_Rotation">
   <hardwareInterface>hardware_interface/EffortJointInterface</hardwareInterface>
      </joint>
      <actuator name="motor1">
   <hardwareInterface>hardware_interface/EffortJointInterface</hardwareInterface>
   <mechanicalReduction>1</mechanicalReduction>
      </actuator>
    </transmission>

    <transmission name="tran2">
      <type>transmission_interface/SimpleTransmission</type>
      <joint name="Rotation_Base">
   <hardwareInterface>hardware_interface/EffortJointInterface</hardwareInterface>
      </joint>
      <actuator name="motor2">
   <hardwareInterface>hardware_interface/EffortJointInterface</hardwareInterface>
   <mechanicalReduction>1</mechanicalReduction>
      </actuator>
    </transmission>

    <transmission name="tran3">
      <type>transmission_interface/SimpleTransmission</type>
      <joint name="Base_Elbow">
   <hardwareInterface>hardware_interface/EffortJointInterface</hardwareInterface>
      </joint>
      <actuator name="motor3">
   <hardwareInterface>hardware_interface/EffortJointInterface</hardwareInterface>
   <mechanicalReduction>1</mechanicalReduction>
      </actuator>
    </transmission>

    <transmission name="tran4">
      <type>transmission_interface/SimpleTransmission</type>
      <joint name="Elbow_Wrist">
   <hardwareInterface>hardware_interface/EffortJointInterface</hardwareInterface>
      </joint>
      <actuator name="motor4">
   <hardwareInterface>hardware_interface/EffortJointInterface</hardwareInterface>
   <mechanicalReduction>1</mechanicalReduction>
      </actuator>
    </transmission>

</robot>
